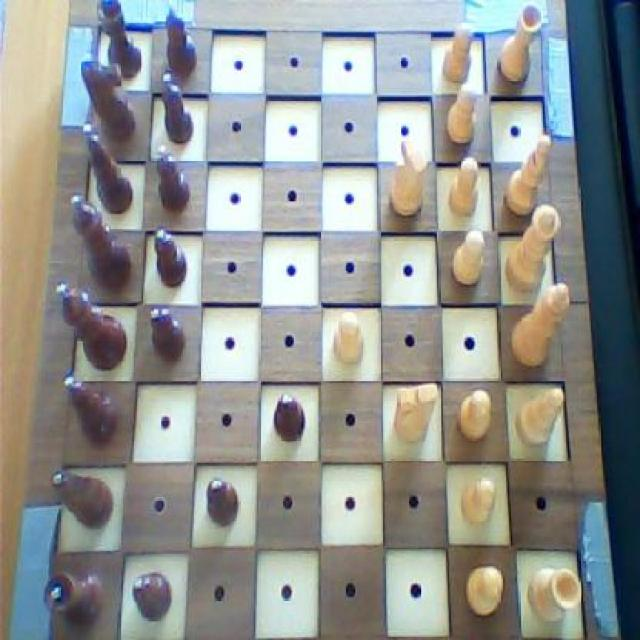bishop: (80, 123, 137, 216), (61, 374, 120, 450)
black-bishop: (66, 192, 134, 293)
black-king: (78, 48, 141, 140), (46, 466, 119, 531)
black-knight: (156, 68, 197, 148), (151, 145, 192, 220), (162, 0, 204, 73), (146, 300, 189, 365), (151, 227, 187, 296), (129, 564, 171, 620), (268, 388, 306, 447), (203, 474, 242, 530)
black-pawn: (54, 277, 131, 374)
black-queen: (40, 564, 108, 632), (94, 0, 145, 83)
black-rook: (502, 131, 556, 219), (515, 383, 571, 455)
white-bishop: (508, 278, 575, 372)
white-king: (384, 132, 428, 222), (391, 376, 439, 448)
white-knight: (456, 472, 500, 532), (463, 558, 505, 620), (329, 306, 369, 371), (448, 224, 488, 288), (440, 18, 476, 88), (446, 154, 483, 221), (454, 384, 494, 444), (444, 81, 480, 147)
white-pawn: (502, 203, 566, 295)
white-queen: (494, 0, 546, 88), (526, 558, 586, 624)
